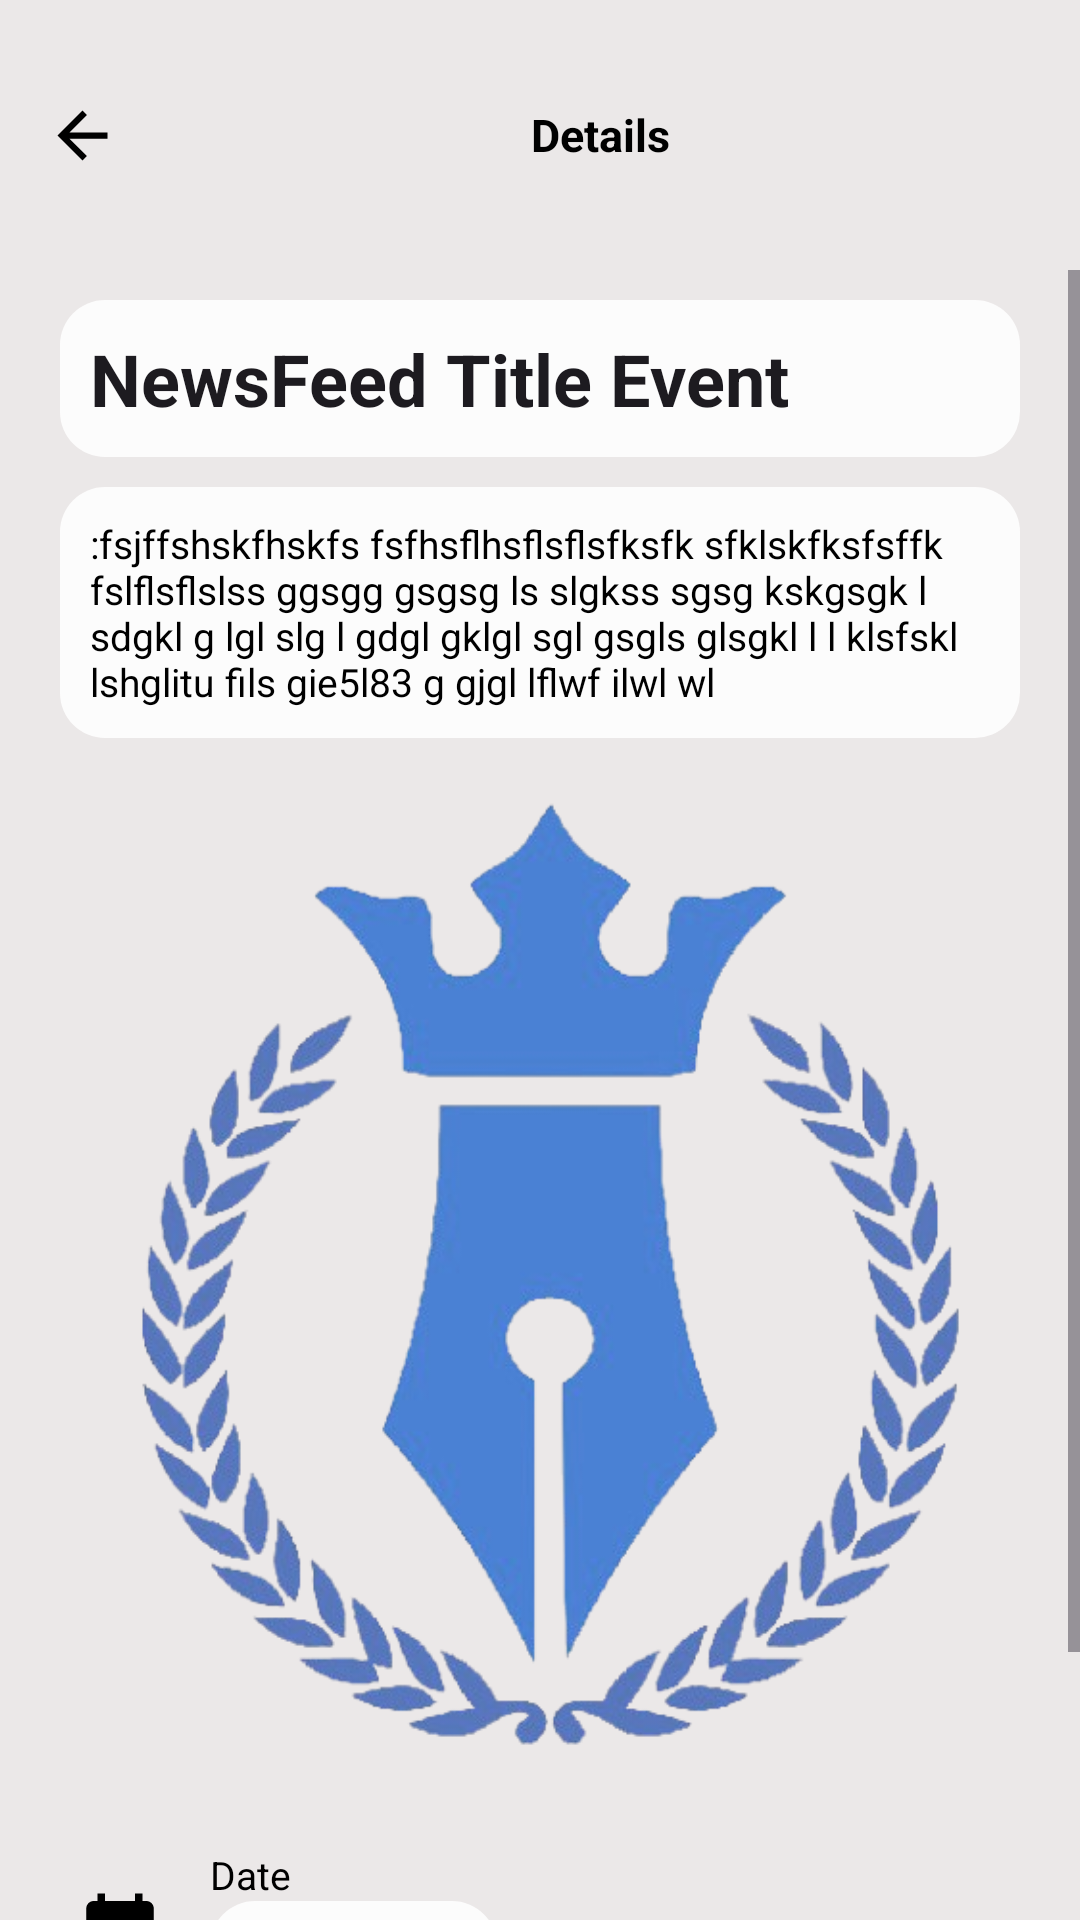

Screen size 1080px×1920px. Icon name, then its center in pixels as point (x, y):
back: point (82, 135)
